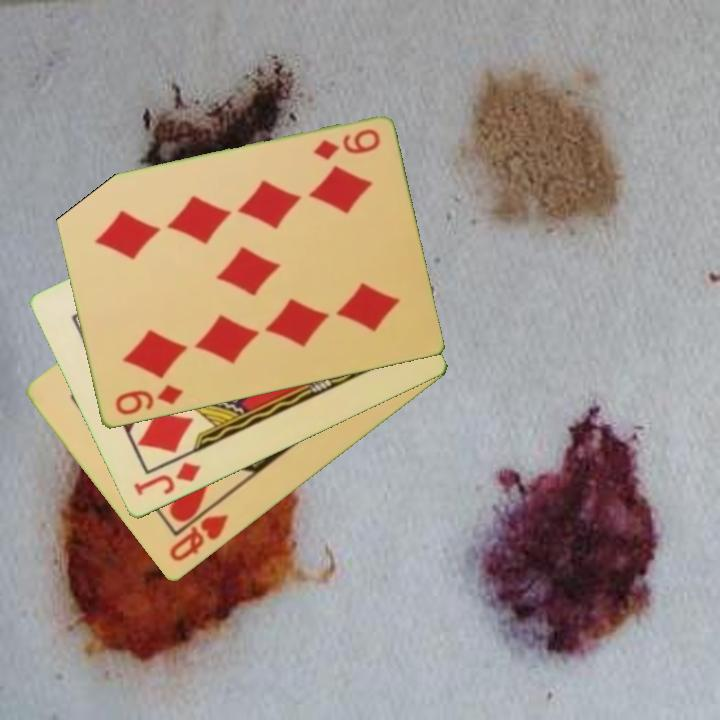9d: (309, 125, 383, 164), (111, 381, 186, 419)
Jd: (130, 459, 204, 499)
Qh: (165, 511, 232, 565)
